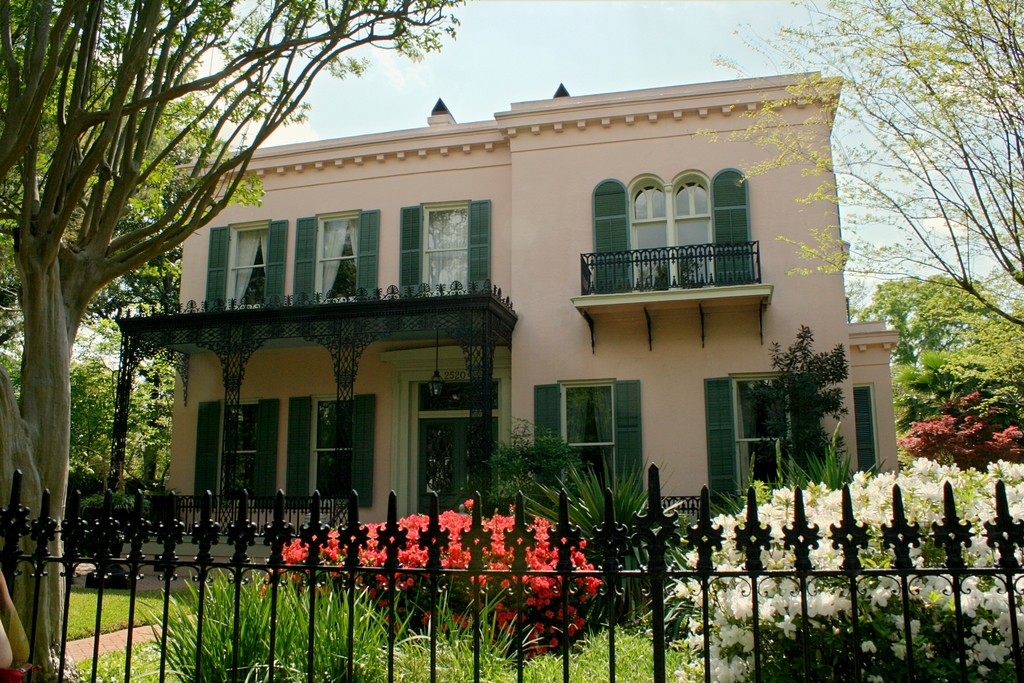Tree: (0, 0, 467, 677), (705, 0, 1023, 477)
